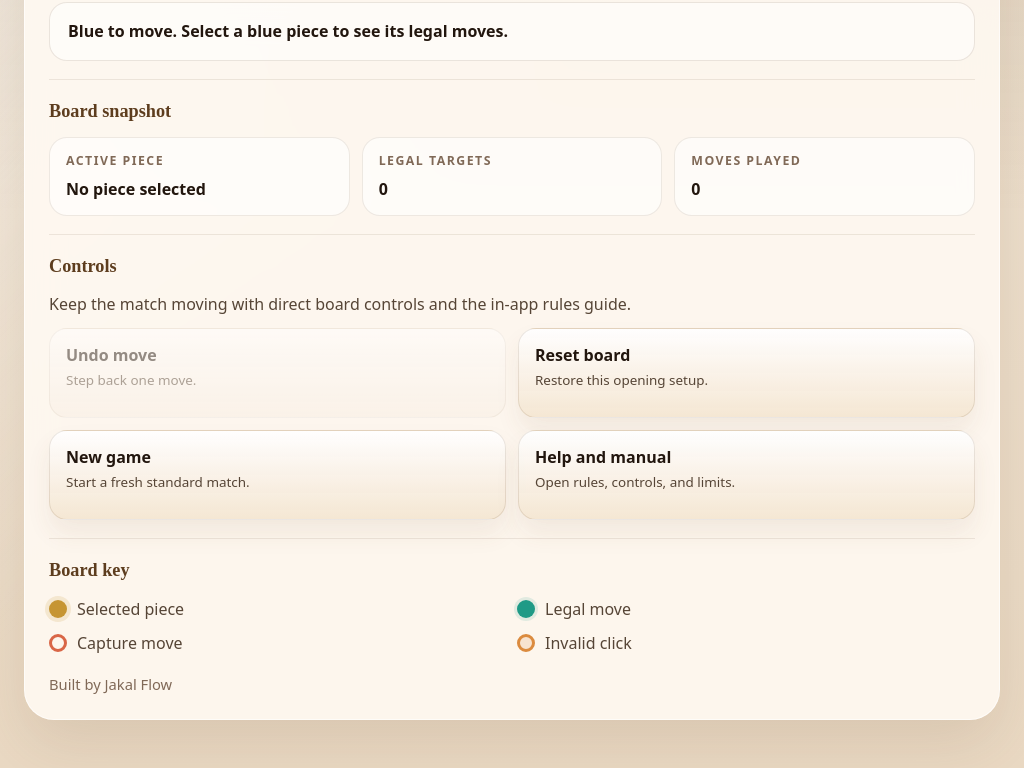
App board interactions › starts a fresh standard match from the new game control
(page scrolled)
Click the button "New game Start a fresh standard match." at [108, 457], box left=49, top=430, right=506, bottom=520
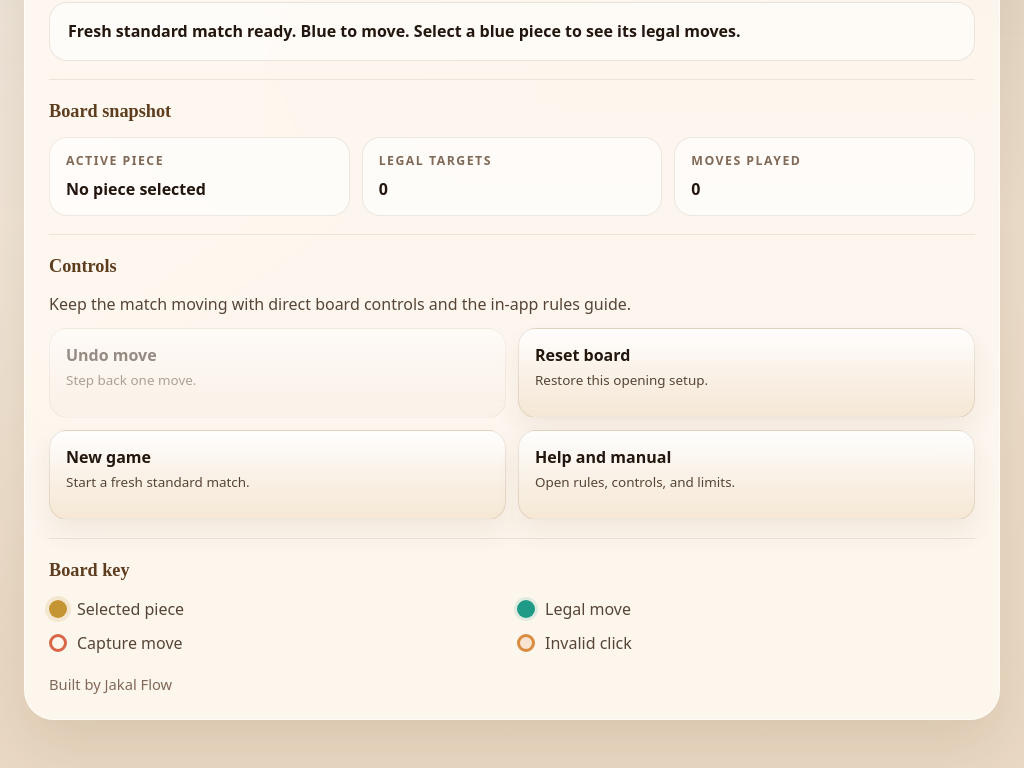
Now the message shows "Fresh standard match ready", box left=68, top=20, right=740, bottom=42
